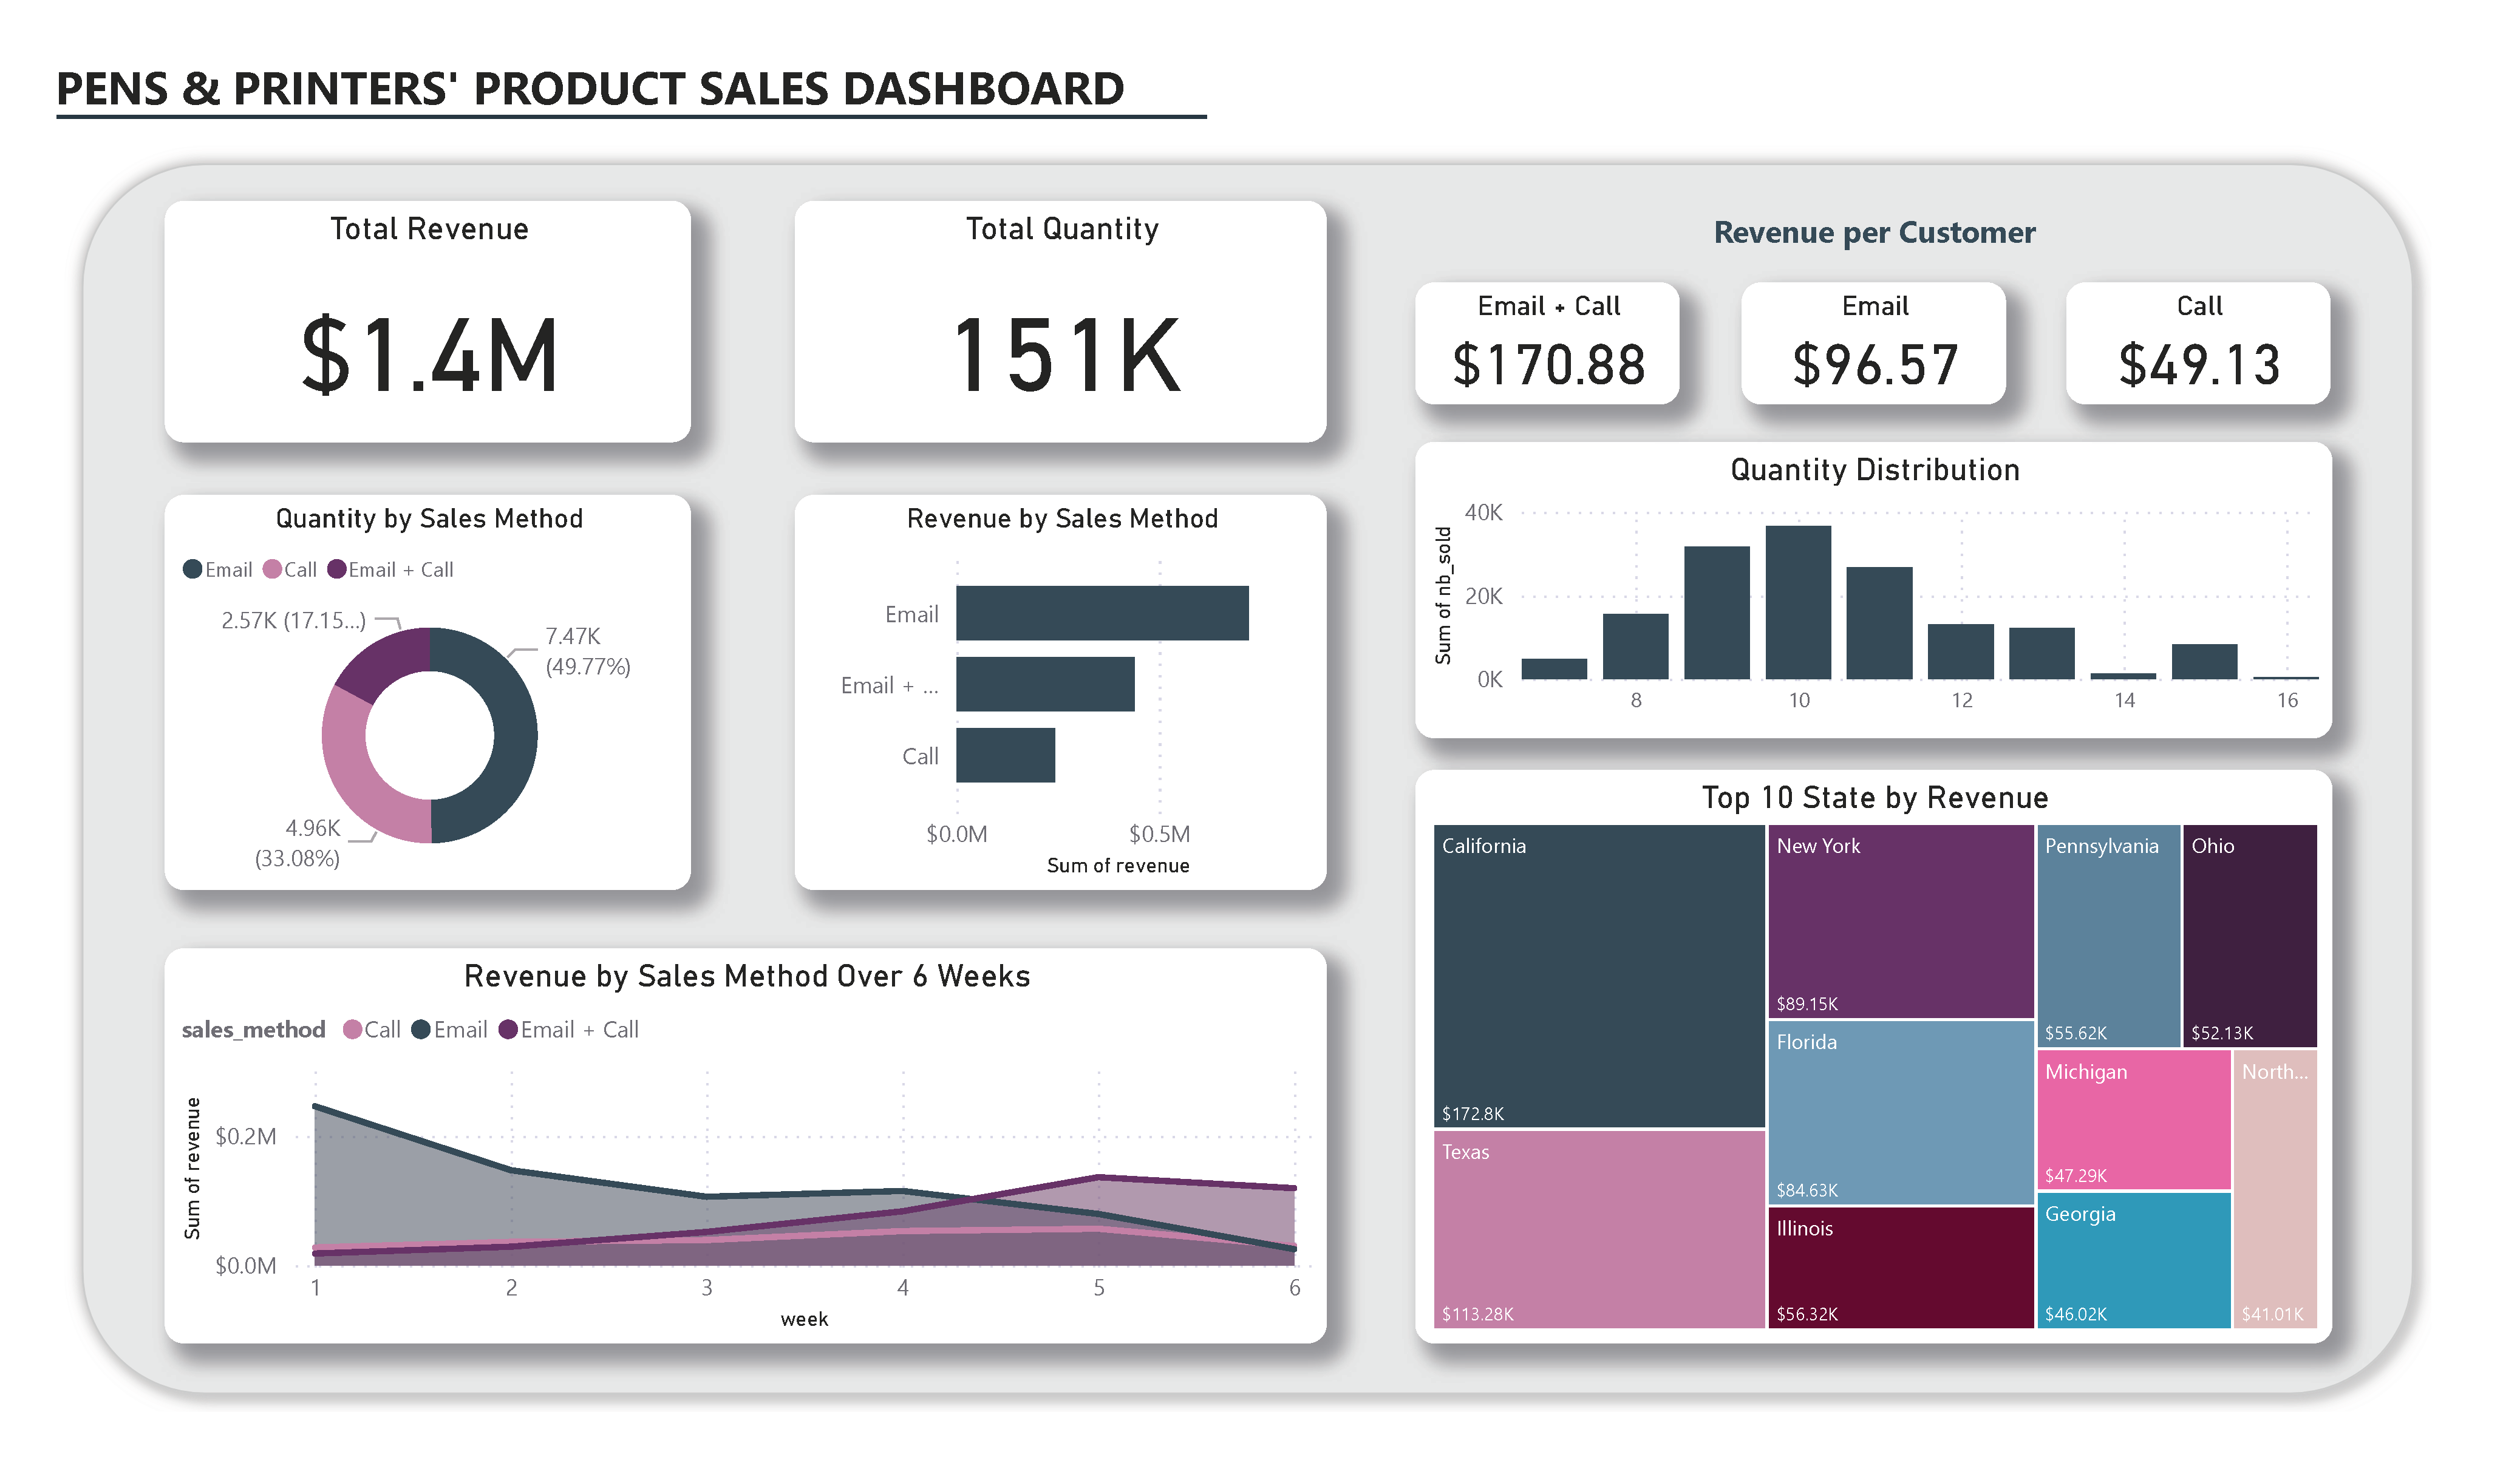

This screenshot's page, from the dashboard's own definition file:
{"tool":"powerbi","page":{"name":"Page 1","canvas":[1280,720],"ordinal":0},"visuals":[{"type":"shape","box":[10.5,53,1246.6,666.8],"z":0},{"type":"card","title":"Total Revenue","fields":{"Values":["cleaned_product_sales.revenue"]},"box":[62.8,82.5,276.8,126.3],"z":1000},{"type":"clusteredBarChart","title":"Revenue by Sales Method","fields":{"Category":["cleaned_product_sales.sales_method"],"Y":["cleaned_product_sales.revenue"]},"box":[394.6,236.9,280.7,208.1],"z":2000},{"type":"textbox","box":[0,0,611.9,55.6],"z":3000},{"type":"card","title":"Total Quantity","fields":{"Values":["cleaned_product_sales.nb_sold"]},"box":[394.6,82.5,280.7,126.3],"z":4000},{"type":"shape","box":[5.9,22.2,606,30.8],"z":5000},{"type":"donutChart","title":"Quantity by Sales Method","fields":{"Category":["cleaned_product_sales.sales_method"],"Y":["cleaned_product_sales.sales_method"]},"box":[62.8,236.9,276.8,208.1],"z":6000},{"type":"areaChart","title":"Revenue by Sales Method Over 6 Weeks","fields":{"Category":["cleaned_product_sales.week"],"Y":["cleaned_product_sales.revenue"],"Series":["cleaned_product_sales.sales_method"]},"box":[62.8,476.4,612.5,208.1],"z":7000},{"type":"clusteredColumnChart","title":"Quantity Distribution ","fields":{"Y":["cleaned_product_sales.nb_sold"],"Category":["cleaned_product_sales.nb_sold"]},"box":[722.1,208.6,482.9,156.4],"z":8000},{"type":"treemap","title":"Top 10 State by Revenue","fields":{"Values":["cleaned_product_sales.revenue"],"Group":["cleaned_product_sales.state"]},"box":[722.5,382.2,482.3,302.3],"z":9000},{"type":"card","title":"Email + Call","fields":{"Values":["cleaned_product_sales.emailcall_customer"]},"box":[722.1,125.4,139.3,63.6],"z":10000},{"type":"card","title":"Email","fields":{"Values":["cleaned_product_sales.email_customer"]},"box":[893.6,125.4,139.3,63.6],"z":11000},{"type":"card","title":"Call","fields":{"Values":["cleaned_product_sales.RevenuePerCustomer_MethodEmail"]},"box":[1065,125.4,139.3,63.6],"z":12000},{"type":"textbox","box":[813.6,82.1,300,33.6],"z":13000}]}

Visuals, with their boxes on the page's 1280x720 design canvas (x1, y1, x2, y2). These are canvas units, not pixel positions in the 2520x1457 screenshot, which may show the page scaled, cropped or inside an application window:
shape: (10, 53, 1257, 720)
"Total Revenue" card: (63, 82, 340, 209)
"Revenue by Sales Method" clusteredBarChart: (395, 237, 675, 445)
textbox: (0, 0, 612, 56)
"Total Quantity" card: (395, 82, 675, 209)
shape: (6, 22, 612, 53)
"Quantity by Sales Method" donutChart: (63, 237, 340, 445)
"Revenue by Sales Method Over 6 Weeks" areaChart: (63, 476, 675, 684)
"Quantity Distribution " clusteredColumnChart: (722, 209, 1205, 365)
"Top 10 State by Revenue" treemap: (722, 382, 1205, 684)
"Email + Call" card: (722, 125, 861, 189)
"Email" card: (894, 125, 1033, 189)
"Call" card: (1065, 125, 1204, 189)
textbox: (814, 82, 1114, 116)
